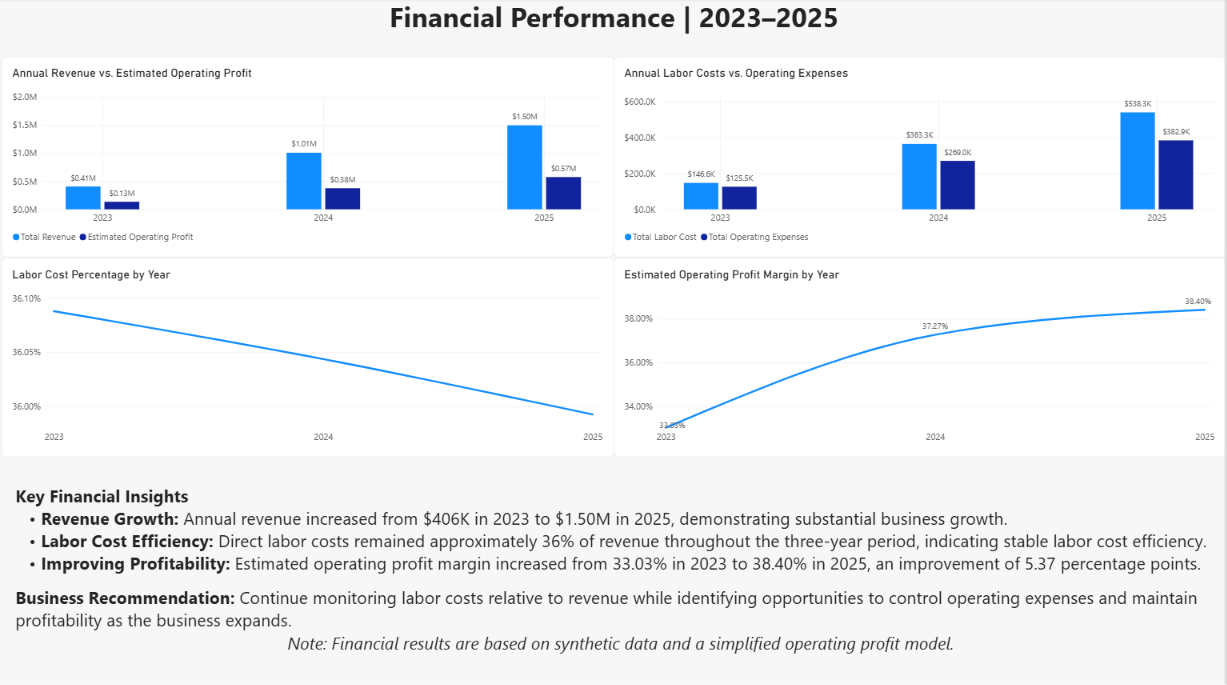

Layout of this report page (visuals, bound fields, positions):
{"tool":"powerbi","page":{"name":"Financial Performance","canvas":[1920,1080],"ordinal":2},"visuals":[{"type":"textbox","box":[10.3,0,1910.1,78.2],"z":0},{"type":"clusteredColumnChart","title":"Annual Revenue vs. Estimated Operating Profit","fields":{"Category":["Date Table.Year"],"Y":["bookings.Total Revenue","bookings.Estimated Operating Profit"]},"box":[10.3,92.6,955.1,312.9],"z":1},{"type":"clusteredColumnChart","title":"Annual Labor Costs vs.  Operating Expenses","fields":{"Category":["Date Table.Year"],"Y":["job_assignments.Total Labor Cost","expenses.Total Operating Expenses"]},"box":[965.4,92.6,955.1,312.9],"z":2},{"type":"lineChart","fields":{"Category":["Date Table.Year"],"Y":["job_assignments.Labor Cost Percentage"]},"box":[10.3,405.5,955.1,310.8],"z":3},{"type":"lineChart","title":"Estimated Operating Profit Margin by Year","fields":{"Category":["Date Table.Year"],"Y":["bookings.Estimated Profit Margin"]},"box":[965.4,405.5,955.1,310.8],"z":4},{"type":"textbox","box":[32.9,757.5,1887.5,323.2],"z":5}]}

Visuals, with their boxes in screenshot pixels (x1, y1, x2, y2), scaled from the page's 1920x1080 canvas onto the 1227x685 screenshot:
textbox: x1=7 y1=0 x2=1226 y2=50
"Annual Revenue vs. Estimated Operating Profit" clusteredColumnChart: x1=7 y1=59 x2=617 y2=257
"Annual Labor Costs vs.  Operating Expenses" clusteredColumnChart: x1=617 y1=59 x2=1226 y2=257
lineChart - Date Table.Year x job_assignments.Labor Cost Percentage: x1=7 y1=257 x2=617 y2=454
"Estimated Operating Profit Margin by Year" lineChart: x1=617 y1=257 x2=1226 y2=454
textbox: x1=21 y1=480 x2=1226 y2=684
